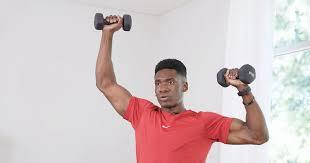dumbell: (217, 64, 255, 87), (95, 12, 132, 31)
window: (274, 1, 310, 163)
